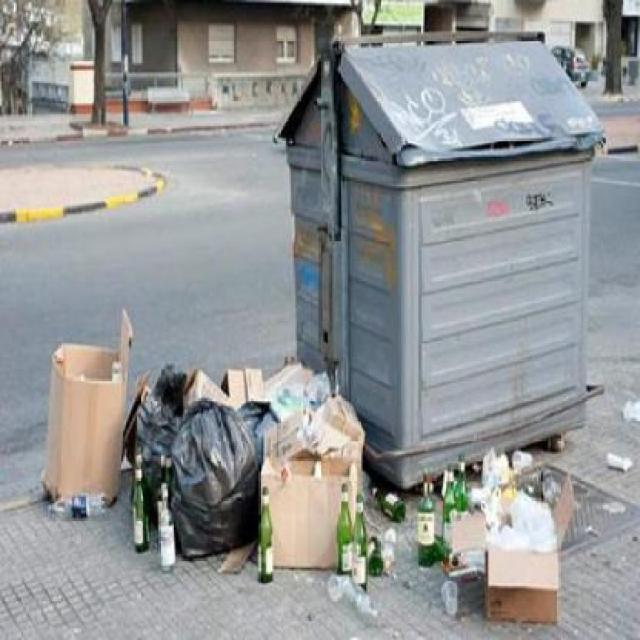garbage: (45, 317, 372, 594), (414, 460, 577, 612)
